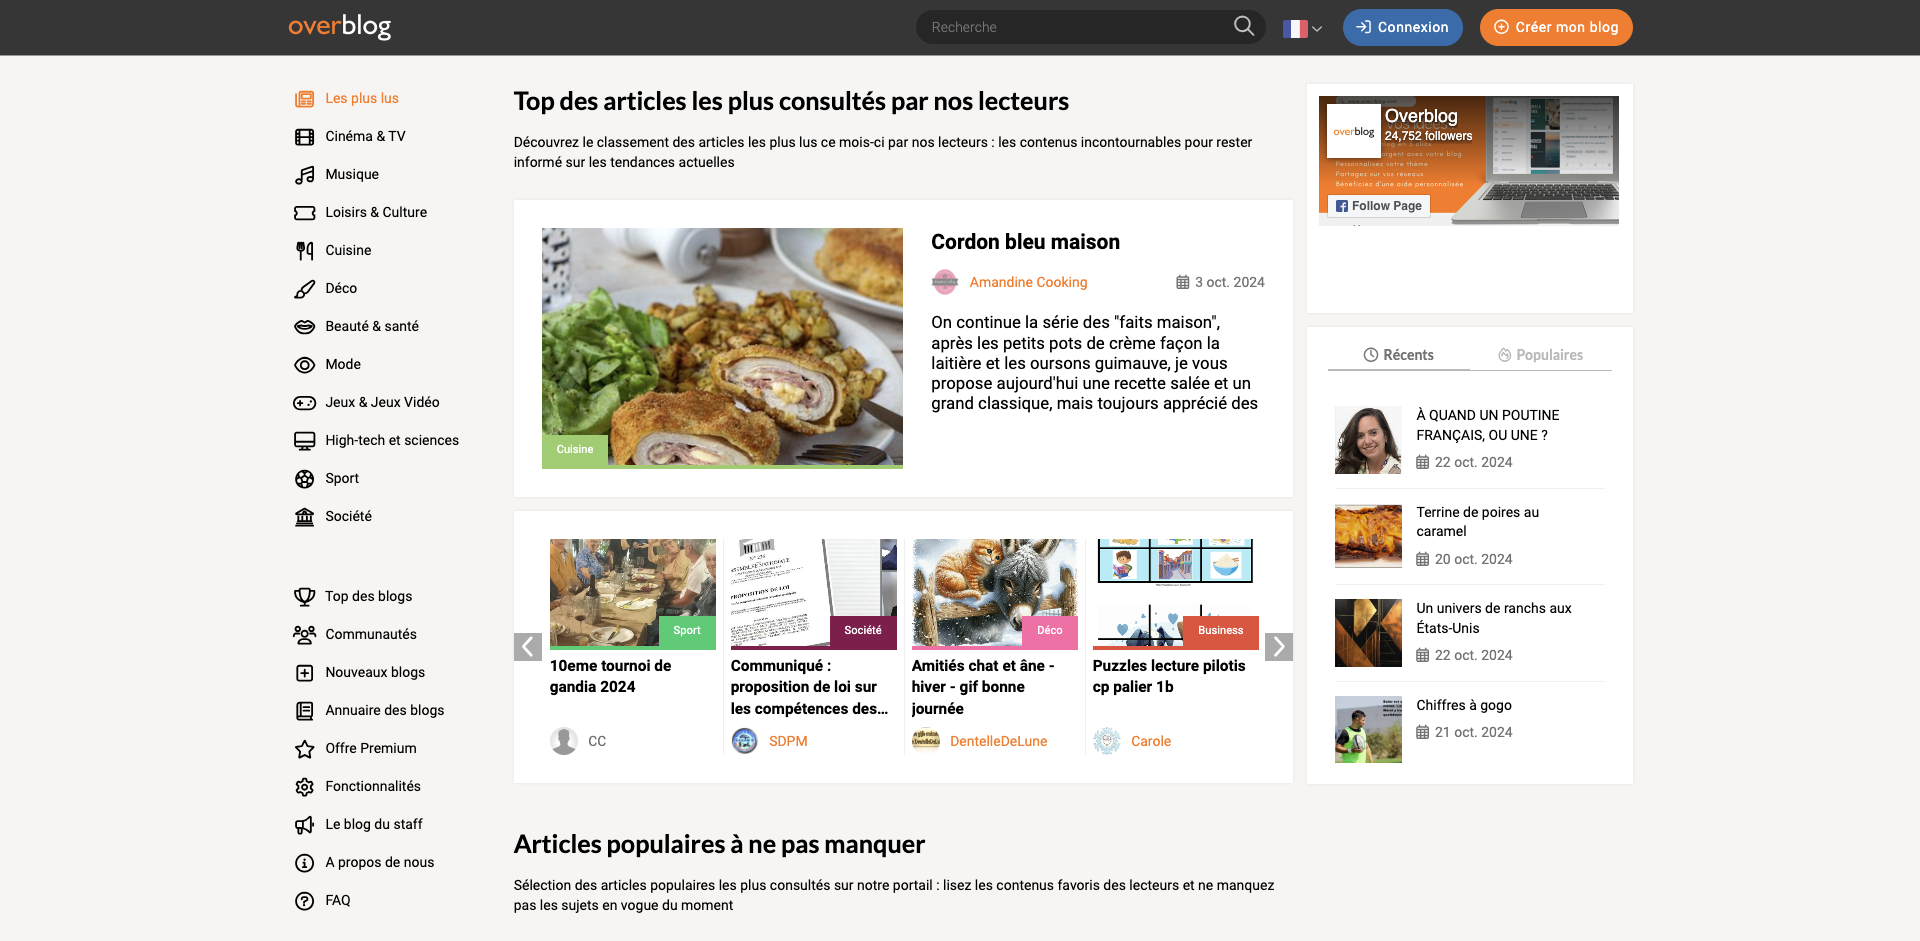button: (1480, 9, 1633, 47), (1342, 9, 1463, 47), (1227, 10, 1266, 44), (513, 633, 541, 662), (1265, 633, 1293, 662)
dropdown: (1283, 6, 1325, 48)
input: (916, 10, 1266, 44)
link: (369, 656, 535, 720), (1273, 656, 1440, 720), (731, 656, 896, 720), (912, 656, 1078, 720), (932, 228, 1265, 257), (287, 0, 458, 55), (187, 656, 354, 698), (1092, 656, 1259, 698), (550, 656, 715, 698), (1636, 656, 1801, 698), (1417, 407, 1591, 446), (1417, 502, 1591, 542), (1417, 599, 1591, 638), (1817, 656, 1920, 720), (279, 83, 491, 111), (279, 121, 491, 149), (279, 159, 491, 187), (279, 197, 491, 225), (279, 235, 491, 263), (279, 273, 491, 301), (279, 311, 491, 339), (279, 349, 491, 377), (279, 387, 491, 415), (279, 582, 491, 610), (279, 620, 491, 648), (279, 658, 491, 686), (279, 696, 491, 724), (279, 734, 491, 762), (279, 772, 491, 800), (279, 810, 491, 838), (279, 848, 491, 876), (279, 886, 491, 914), (279, 426, 491, 453), (279, 464, 491, 491), (279, 502, 491, 529), (1469, 342, 1611, 371), (1329, 342, 1469, 371), (6, 656, 173, 678), (1455, 656, 1621, 678), (1417, 696, 1591, 716), (227, 733, 344, 750), (970, 273, 1087, 289), (1313, 733, 1413, 750), (950, 733, 1047, 750), (1493, 733, 1564, 750), (1674, 733, 1720, 750), (1131, 733, 1172, 750), (769, 733, 808, 750), (407, 733, 444, 750), (45, 733, 76, 750)
